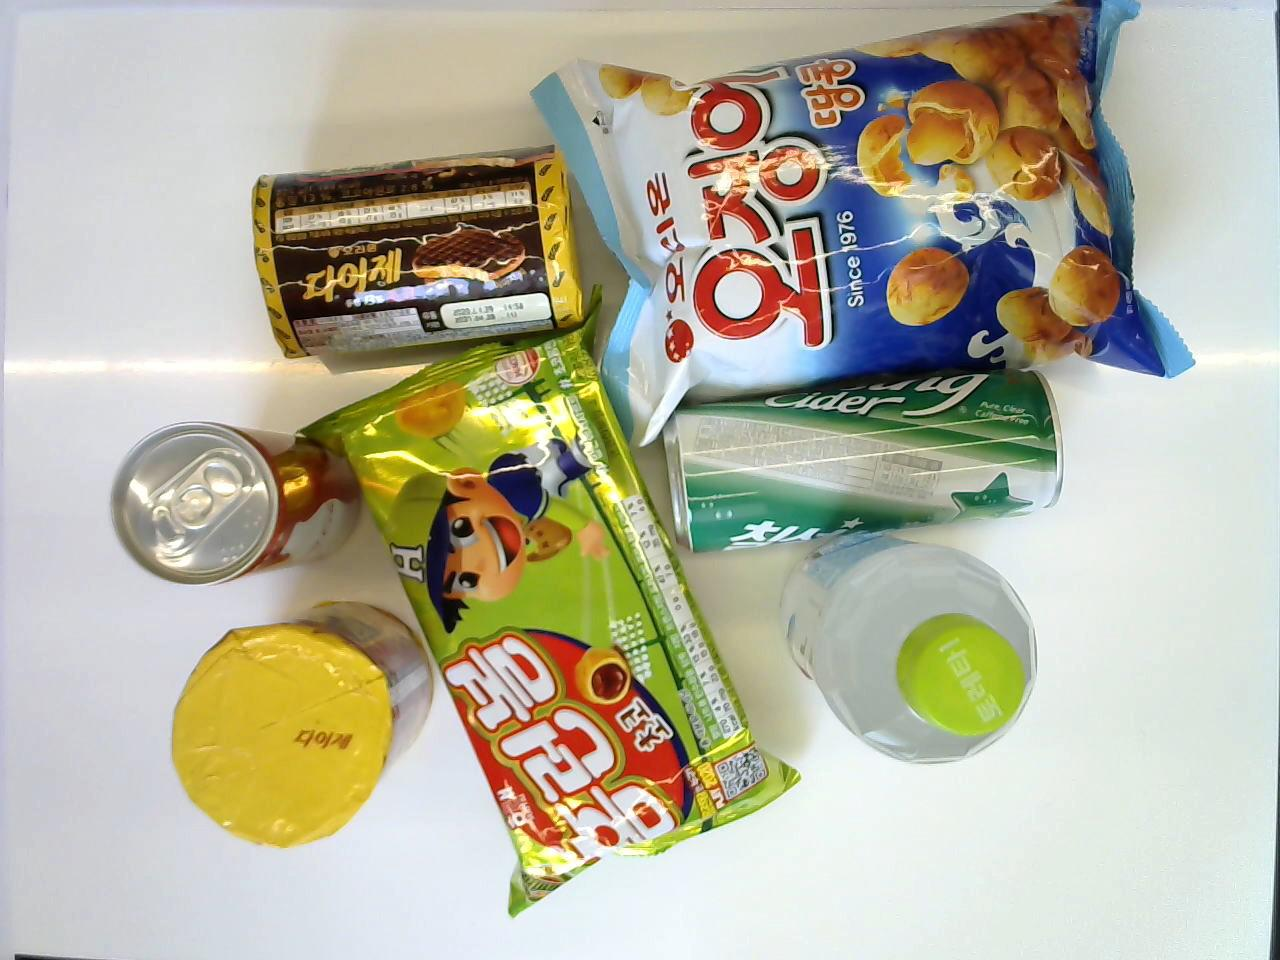cidar: (664, 365, 1068, 553)
coke: (102, 422, 363, 586)
diget_choco: (248, 142, 593, 361)
diget_ori: (168, 604, 433, 849)
homerunball: (290, 328, 802, 920), (775, 530, 1041, 769)
squid_peanut: (526, 0, 1199, 447)
toreta: (775, 530, 1041, 769)
